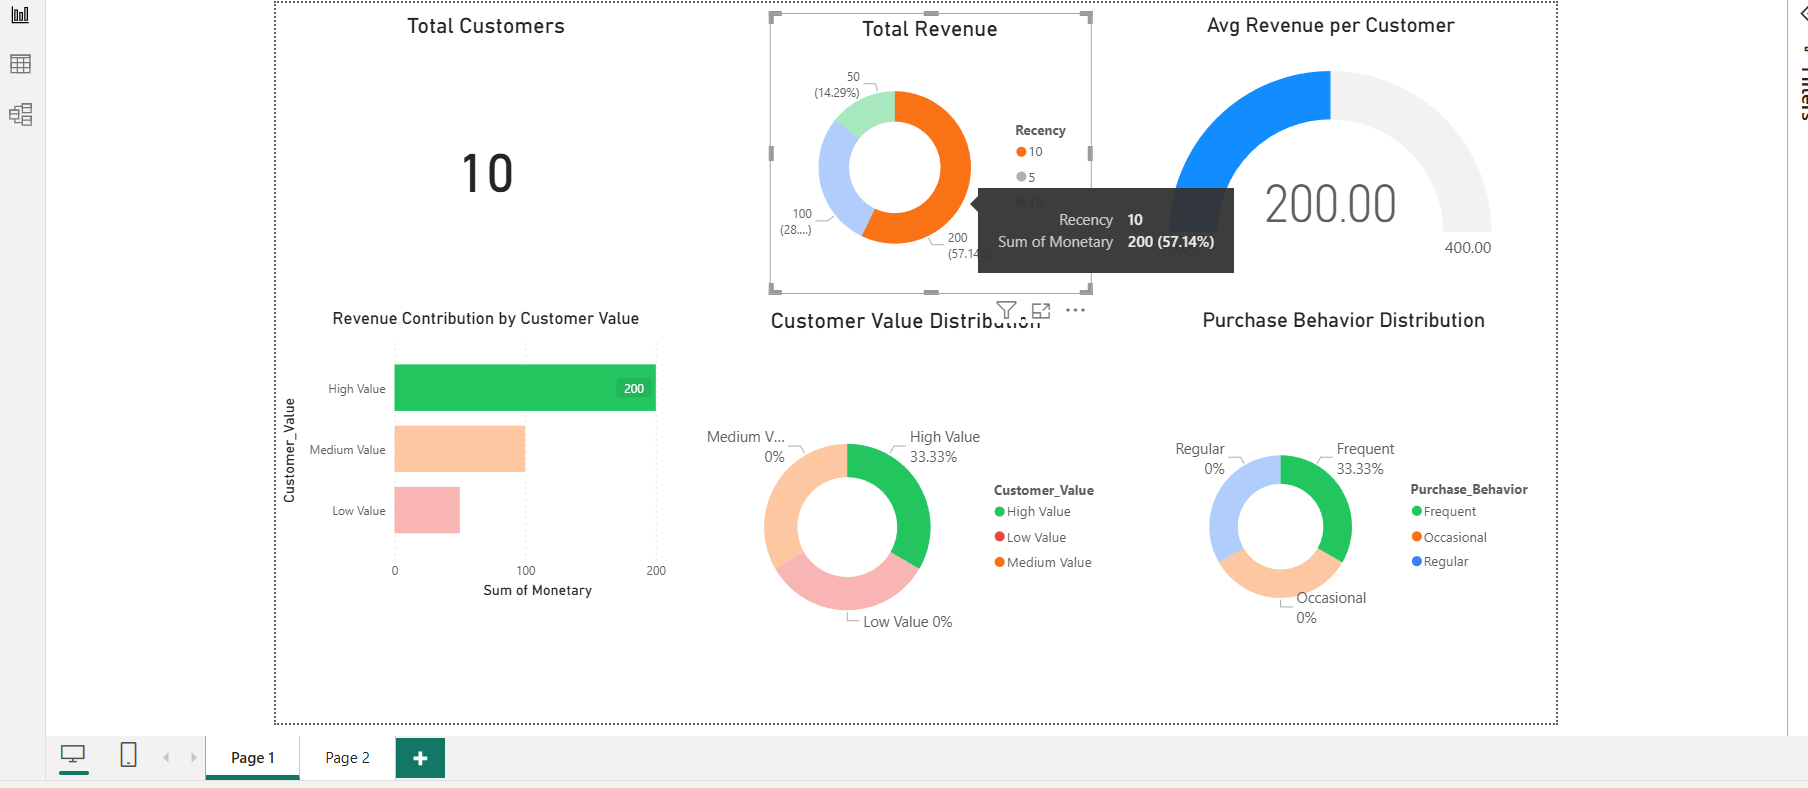

Layout of this report page (visuals, bound fields, positions):
{"tool":"powerbi","page":{"name":"Page 1","canvas":[1280,720],"ordinal":0},"visuals":[{"type":"donutChart","title":"Customer Value Distribution","fields":{"Category":["Consumer360_RFM_Final (2).Customer_Value"],"Y":["Count(Consumer360_RFM_Final (2).customer_id)"]},"box":[420,304.8,420,414.6],"z":0},{"type":"clusteredBarChart","title":"Revenue Contribution by Customer Value","fields":{"Category":["Consumer360_RFM_Final (2).Customer_Value"],"Y":["Sum(Consumer360_RFM_Final (2).Monetary)"]},"box":[0,304.8,420,295.3],"z":1000},{"type":"donutChart","title":"Purchase Behavior Distribution","fields":{"Category":["Consumer360_RFM_Final (2).Purchase_Behavior"],"Y":["Count(Consumer360_RFM_Final (2).customer_id)"]},"box":[869.8,304.8,395.6,414.6],"z":2000},{"type":"donutChart","title":"Total Revenue","fields":{"Y":["Sum(Consumer360_RFM_Final (2).Monetary)"],"Category":["Consumer360_RFM_Final (2).Recency"]},"box":[493.2,9.5,322.4,281.8],"z":3000},{"type":"gauge","title":"Avg Revenue per Customer","fields":{"Y":["Avg(Consumer360_RFM_Final (2).Monetary)"]},"box":[888.7,9.5,331.9,285.9],"z":4000},{"type":"card","title":"Total Customers","fields":{"Values":["Sum(Consumer360_RFM_Final (2).Recency)"]},"box":[0,9.5,420,282],"z":5000}]}

Visuals, with their boxes on the page's 1280x720 design canvas (x1, y1, x2, y2). These are canvas units, not pixel positions in the 1808x788 screenshot, which may show the page scaled, cropped or inside an application window:
"Customer Value Distribution" donutChart: [420,305,840,719]
"Revenue Contribution by Customer Value" clusteredBarChart: [0,305,420,600]
"Purchase Behavior Distribution" donutChart: [870,305,1265,719]
"Total Revenue" donutChart: [493,10,816,291]
"Avg Revenue per Customer" gauge: [889,10,1221,295]
"Total Customers" card: [0,10,420,292]
